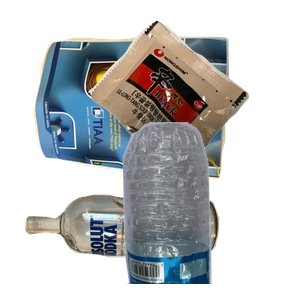glass: (22, 192, 234, 300)
paper: (31, 34, 252, 205)
plastic: (111, 120, 300, 300)
trash: (86, 18, 300, 194)
